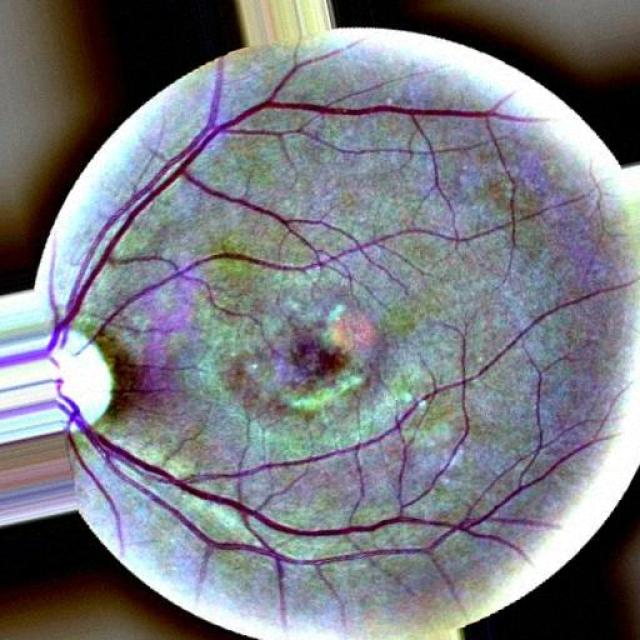Macula: (291, 328, 364, 396)
Nerves: (58, 102, 540, 329), (64, 386, 423, 567)
Optic Disk: (52, 328, 113, 435)
